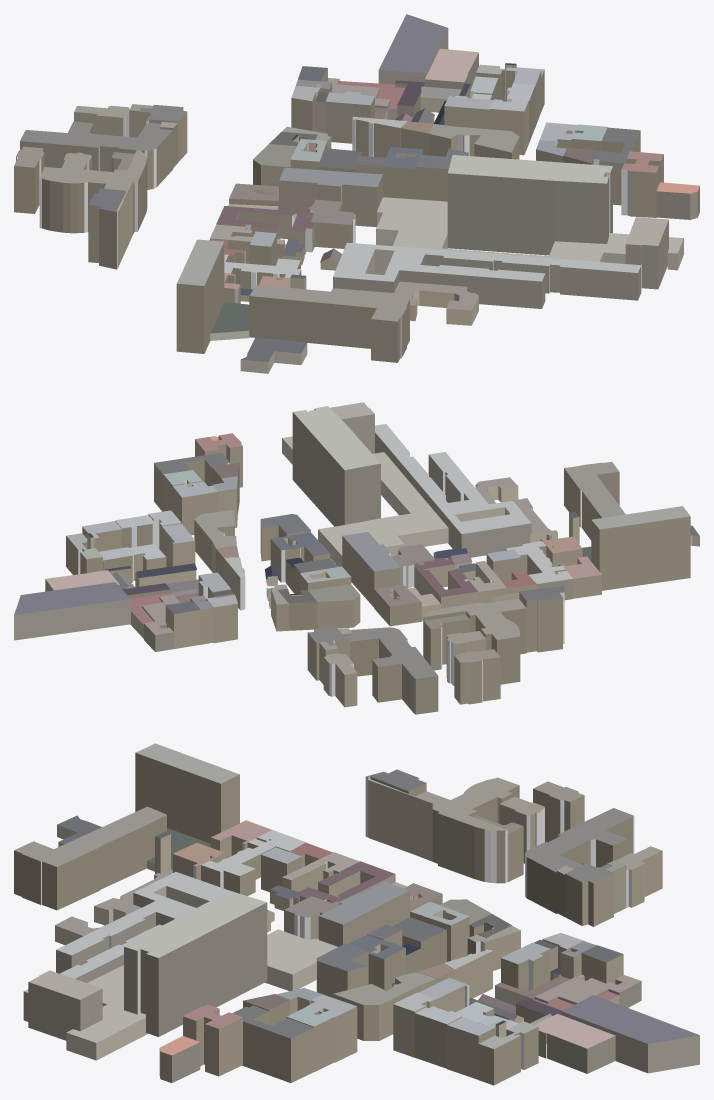
3 views of the same model, one above another, from view 1: azimuth 30°, elevation 25°; view 2: azimuth 150°, elevation 25°; view 3: azimuth 270°, elevation 25° (orthographic). The views are drawn at different scales.
Parts seen in each view (by area): view 1: tuile; view 2: tuile; view 3: tuile.
Boxes of the visible parts, bbox=[...] form: tuile: bbox=[14, 14, 699, 373]; tuile: bbox=[14, 402, 699, 714]; tuile: bbox=[14, 743, 699, 1085].
Bounding box in the file's own units: 279 × 40.5 × 297.
